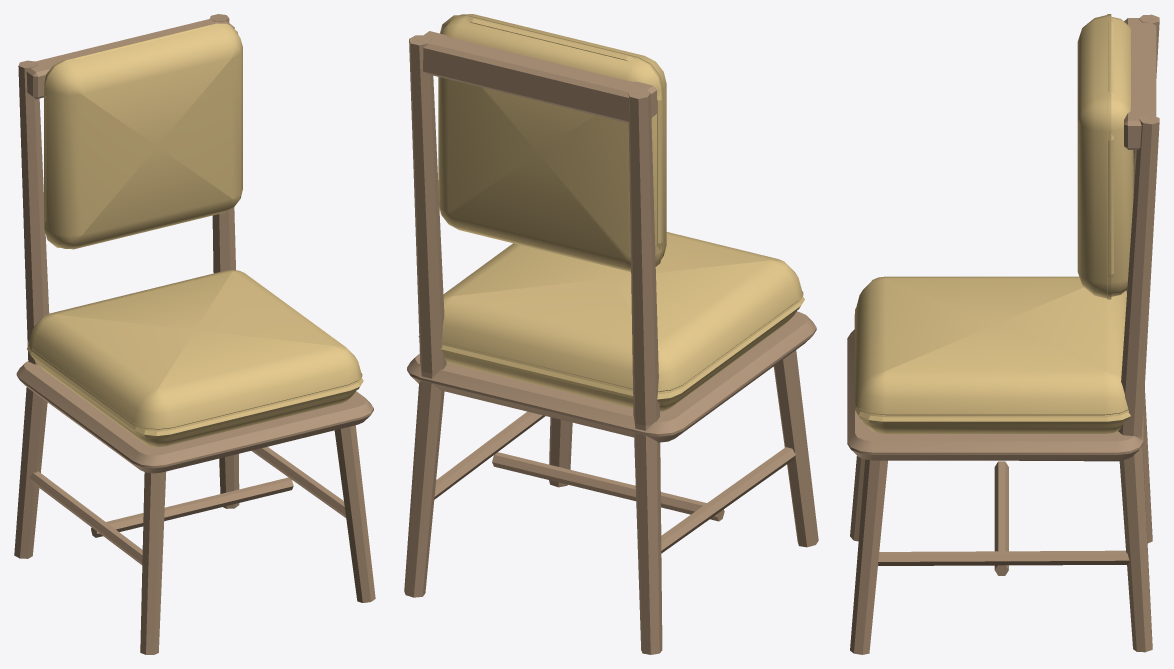
The picture shows the model from 3 angles, left to right: view 1: azimuth 30°, elevation 25°; view 2: azimuth 150°, elevation 25°; view 3: azimuth 270°, elevation 25°; orthographic projection. The views are drawn at different scales.
Visible parts, largest first — view 1: dining-chair-accent; view 2: dining-chair-accent; view 3: dining-chair-accent.
Part boxes in pixels (bbox=[...]): dining-chair-accent: bbox=[14, 14, 375, 654]; dining-chair-accent: bbox=[404, 14, 818, 654]; dining-chair-accent: bbox=[847, 14, 1159, 654].
Size of the model in its own units: 0.46 by 0.9248 by 0.4854.
